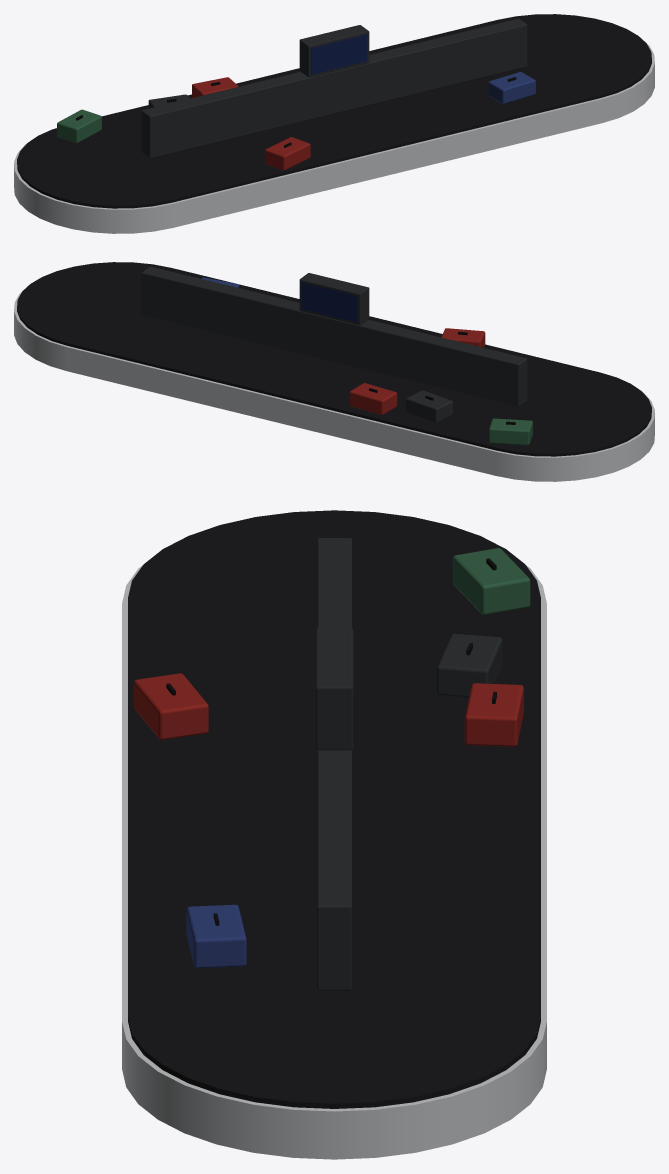
Rendered from carousel_36.glb.
The picture shows the model from 3 angles, top to bottom: view 1: azimuth 30°, elevation 25°; view 2: azimuth 150°, elevation 25°; view 3: azimuth 270°, elevation 25°; orthographic projection. The views are drawn at different scales.
Visible parts, largest first — view 1: band_mitte, mittelwand, sockel_mitte, band_ende-1, band_ende1, sockel_ende-1, anzeige-1, sockel_ende1, schild, koffer1, koffer0, koffer3 (+1 smaller); view 2: band_mitte, mittelwand, band_ende-1, sockel_mitte, band_ende1, sockel_ende-1, anzeige1, sockel_ende1, schild, koffer4, koffer2, koffer3 (+1 smaller); view 3: band_mitte, band_ende-1, band_ende1, sockel_ende1, mittelwand, sockel_mitte, schild, koffer3, koffer0, koffer1, koffer4, koffer2.
Part boxes in pixels (<box>): band_mitte: <box>88,20,600,202</box>; mittelwand: <box>141,18,527,158</box>; sockel_mitte: <box>172,98,601,227</box>; band_ende-1: <box>17,119,222,208</box>; band_ende1: <box>466,14,651,101</box>; sockel_ende-1: <box>14,144,189,233</box>; anzeige-1: <box>311,34,367,74</box>; sockel_ende1: <box>601,38,654,122</box>; schild: <box>299,25,369,77</box>; koffer1: <box>488,72,535,103</box>; koffer0: <box>265,137,310,170</box>; koffer3: <box>57,109,101,142</box>; band_mitte: <box>68,268,598,450</box>; mittelwand: <box>141,266,527,406</box>; band_ende-1: <box>448,367,651,456</box>; sockel_mitte: <box>67,346,496,475</box>; band_ende1: <box>17,262,204,349</box>; sockel_ende-1: <box>482,392,654,481</box>; anzeige1: <box>301,282,357,322</box>; sockel_ende1: <box>14,286,67,370</box>; schild: <box>299,273,369,325</box>; koffer4: <box>349,383,397,414</box>; koffer2: <box>406,390,453,422</box>; koffer3: <box>489,418,532,445</box>; band_mitte: <box>128,597,540,1016</box>; band_ende-1: <box>128,510,540,683</box>; band_ende1: <box>128,967,540,1108</box>; sockel_ende1: <box>122,1003,546,1159</box>; mittelwand: <box>316,538,352,990</box>; sockel_mitte: <box>122,603,546,1021</box>; schild: <box>315,628,353,750</box>; koffer3: <box>452,548,530,614</box>; koffer0: <box>133,673,208,739</box>; koffer1: <box>186,904,246,968</box>; koffer4: <box>464,683,523,746</box>; koffer2: <box>436,633,502,697</box>.
Bounding box in the file's own units: 12 × 1.9 × 3.6.
